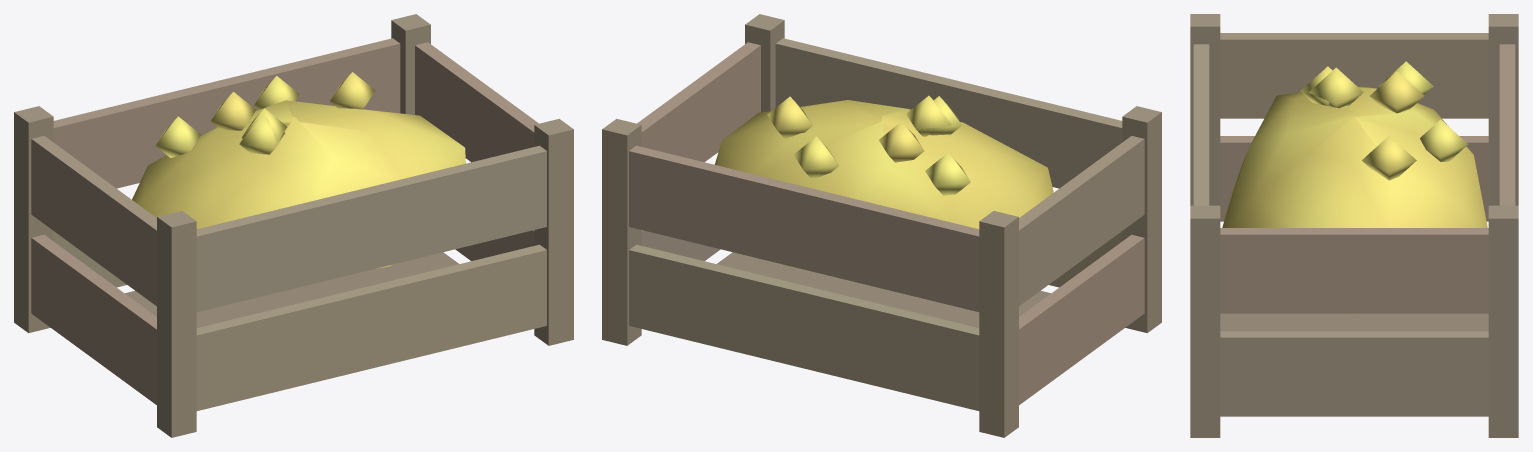
The model's file is SM_BM_BP_CrateProduce_B.glb.
3 views of the same model, side by side, from view 1: azimuth 30°, elevation 25°; view 2: azimuth 150°, elevation 25°; view 3: azimuth 270°, elevation 25° (orthographic). The views are drawn at different scales.
Parts seen in each view (by area): view 1: SM_BM_BP_CrateProduce_B; view 2: SM_BM_BP_CrateProduce_B; view 3: SM_BM_BP_CrateProduce_B.
Part boxes in pixels (left/top/right/bottom): SM_BM_BP_CrateProduce_B: left=14, top=14, right=573, bottom=437; SM_BM_BP_CrateProduce_B: left=602, top=14, right=1161, bottom=437; SM_BM_BP_CrateProduce_B: left=1190, top=14, right=1518, bottom=437.
Bounding box in the file's own units: 0.56 × 0.3176 × 0.38.
